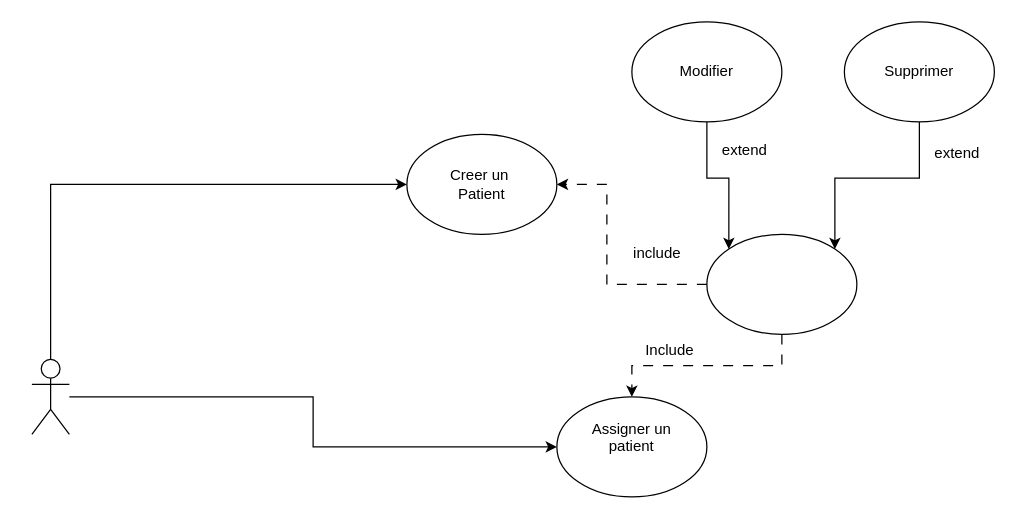
Image size: 1016x519. Some labels were removed from this diagram. The shapes that lost their labels are listed below. From the top down, each one's centre as x and y in pixels, then its label:
(x=781, y=283): Liste Patient
(x=50, y=396): Employé
